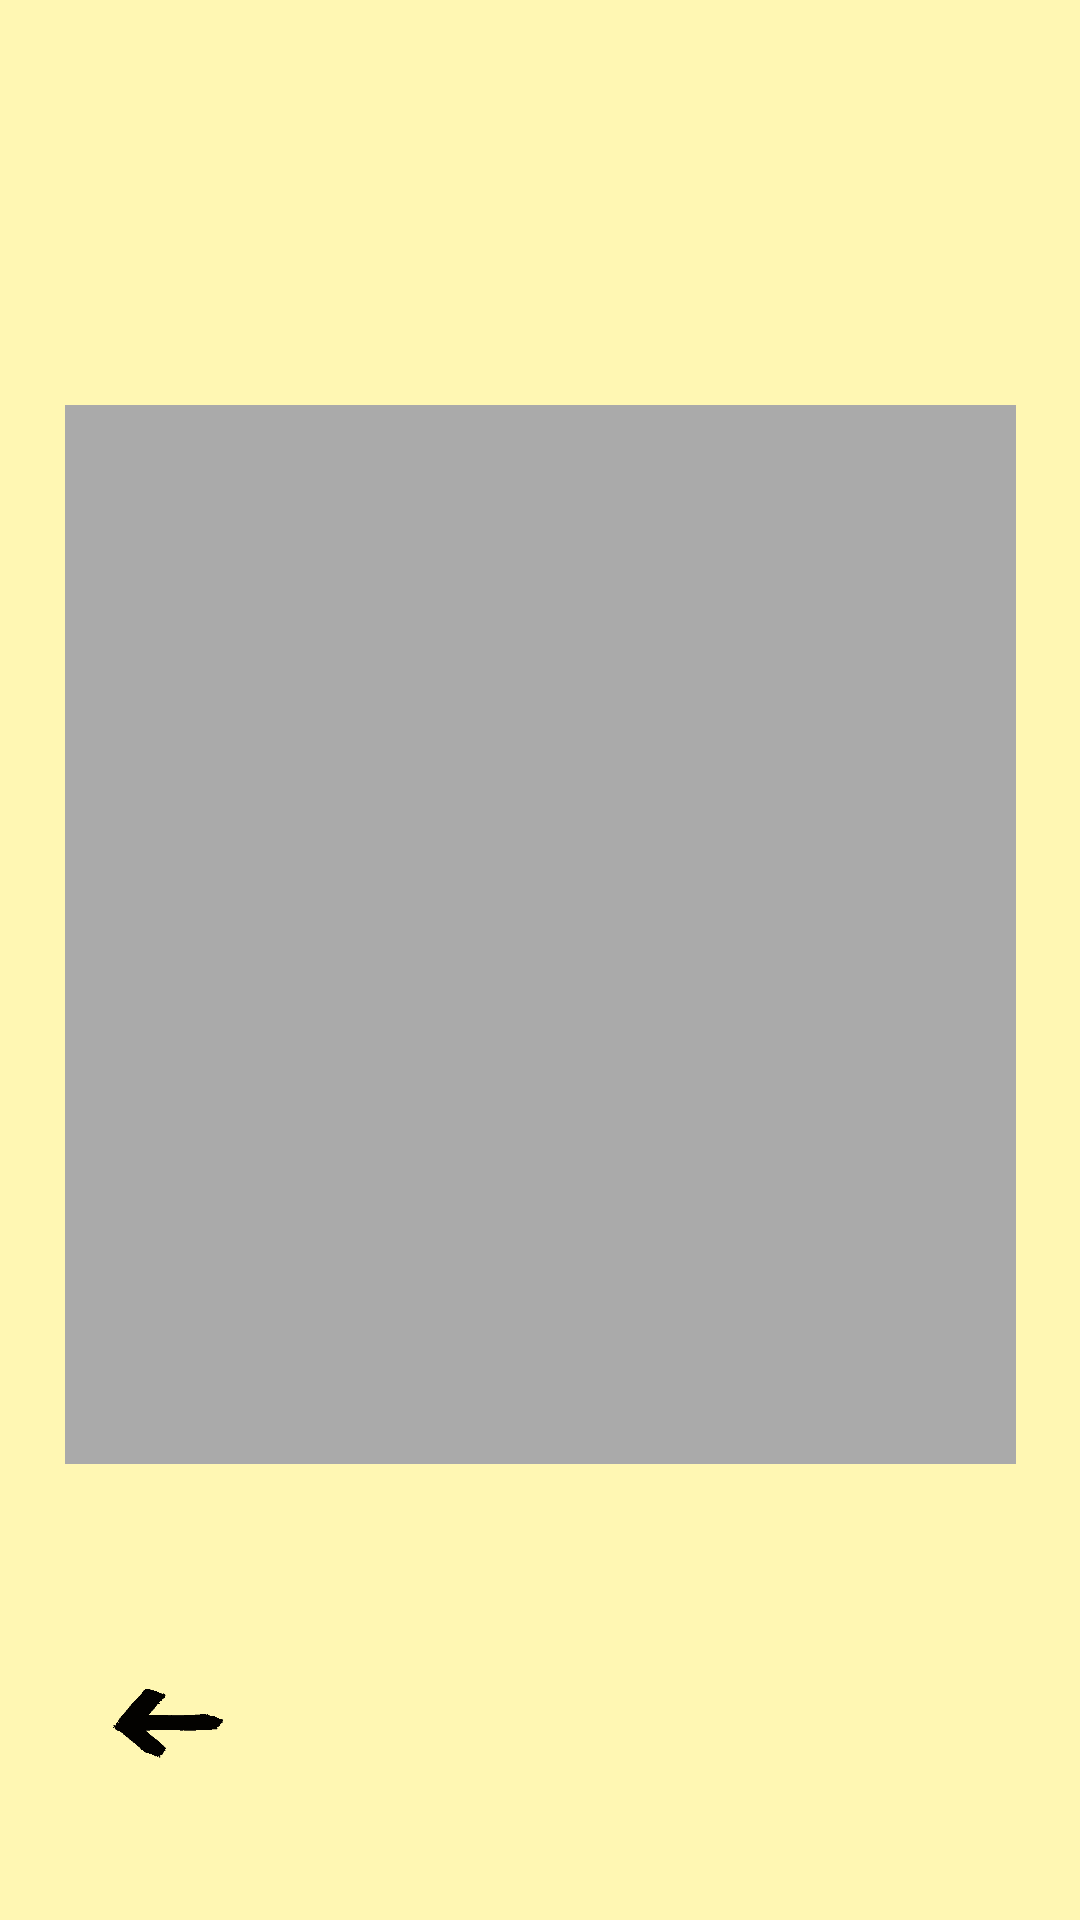

Named icons in this screenshot (1080px x 1920px) and their bounding boxes, (x1, y1, x2, y2):
retour: (113, 1689, 223, 1758)
